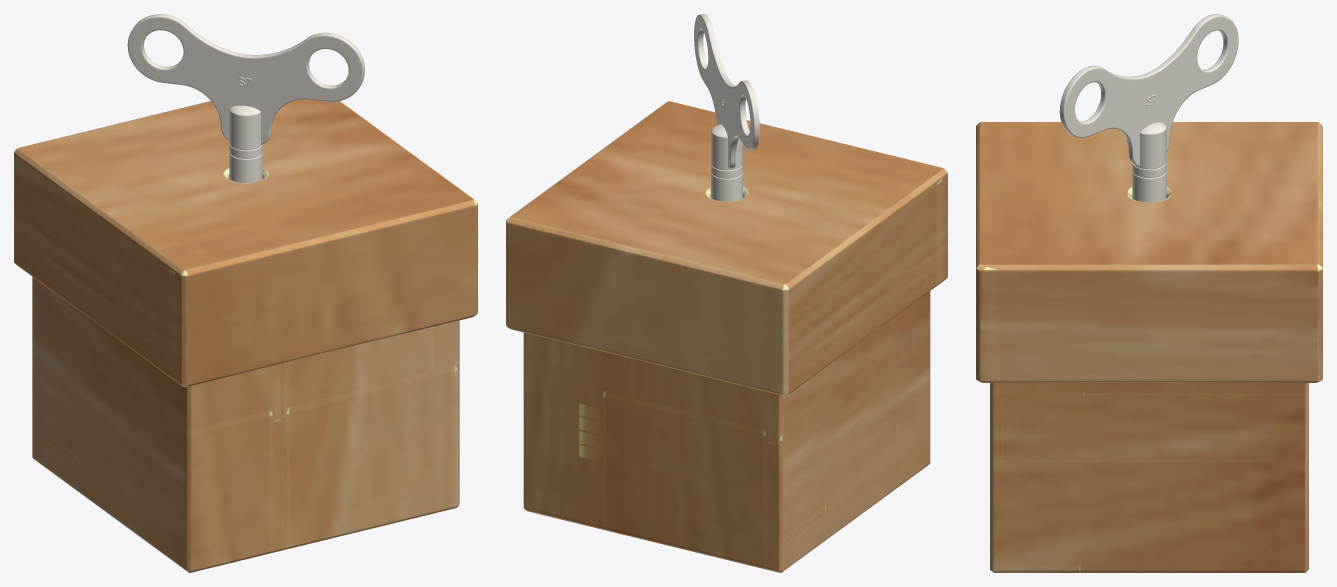
Rendered from Siebensachen_Music_Box.glb.
3 renders of one model, left to right at view 1: azimuth 30°, elevation 25°; view 2: azimuth 150°, elevation 25°; view 3: azimuth 270°, elevation 25°, orthographic. The views are drawn at different scales.
Visible parts, largest first — view 1: BP_Siebensachen_Music_Box; view 2: BP_Siebensachen_Music_Box; view 3: BP_Siebensachen_Music_Box.
Boxes of the visible parts, x1,y1,x2,y2 form: BP_Siebensachen_Music_Box: [14, 14, 477, 572]; BP_Siebensachen_Music_Box: [506, 14, 947, 572]; BP_Siebensachen_Music_Box: [976, 14, 1322, 572].
Size of the model in its own units: 0.0818 by 0.121 by 0.0818.
Materials: 2 (1 with a texture image).
